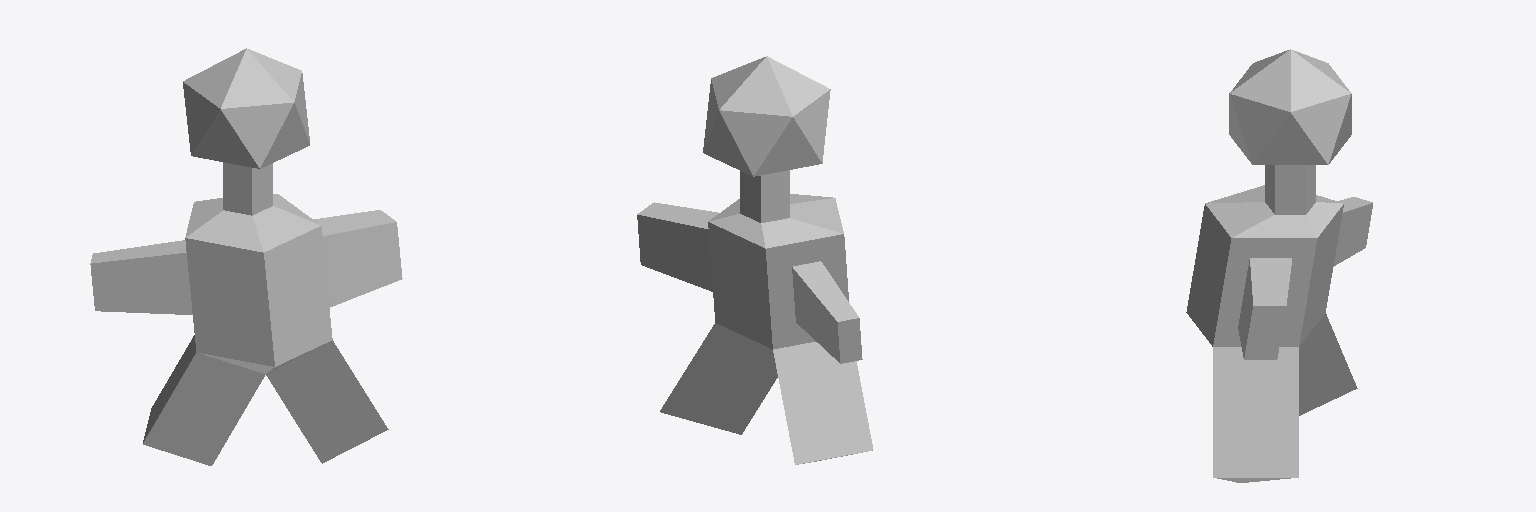
Rendered from Bomberman.obj.
3 renders of one model, left to right at view 1: azimuth 30°, elevation 25°; view 2: azimuth 150°, elevation 25°; view 3: azimuth 270°, elevation 25°, orthographic.
Parts seen in each view (by area): view 1: Bomberman; view 2: Bomberman; view 3: Bomberman.
Part boxes in pixels (bbox=[...]): Bomberman: bbox=[90, 48, 402, 465]; Bomberman: bbox=[637, 56, 872, 464]; Bomberman: bbox=[1186, 49, 1372, 482].
Bounding box in the file's own units: 4.13 × 6.29 × 2.61.